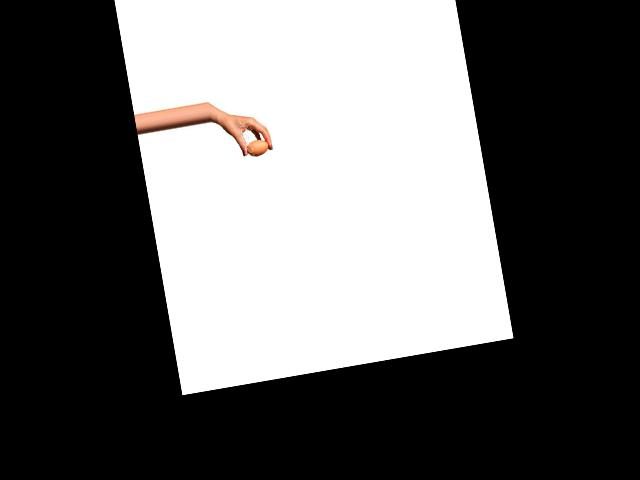egg: (245, 138, 269, 156)
